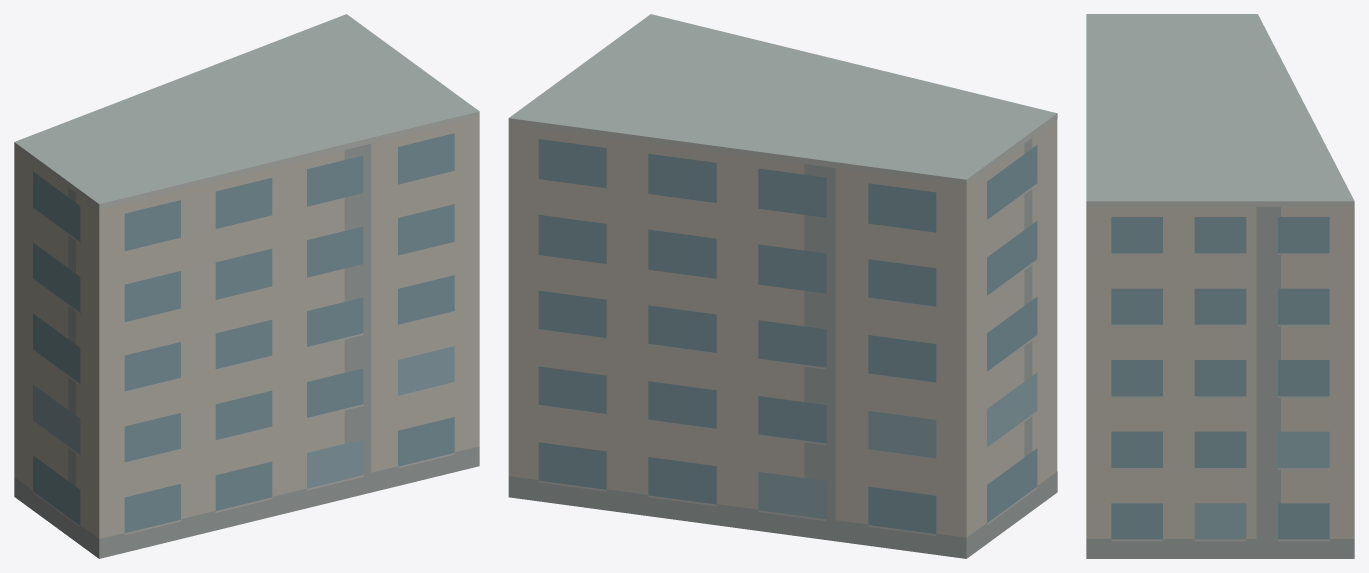
The model's file is residential-aaf2f2d3-6860-49ac-9d3b-27383a2be69e.glb.
The picture shows the model from 3 angles, left to right: view 1: azimuth 30°, elevation 25°; view 2: azimuth 150°, elevation 25°; view 3: azimuth 270°, elevation 25°; orthographic projection. The views are drawn at different scales.
Parts seen in each view (by area): view 1: residential-aaf2f2d3-6860-49ac-9d3b-27383a2be69e.tmp; view 2: residential-aaf2f2d3-6860-49ac-9d3b-27383a2be69e.tmp; view 3: residential-aaf2f2d3-6860-49ac-9d3b-27383a2be69e.tmp.
Part boxes in pixels (x1,y1,x2,y2): residential-aaf2f2d3-6860-49ac-9d3b-27383a2be69e.tmp: (14, 14, 479, 558); residential-aaf2f2d3-6860-49ac-9d3b-27383a2be69e.tmp: (508, 14, 1057, 558); residential-aaf2f2d3-6860-49ac-9d3b-27383a2be69e.tmp: (1086, 14, 1354, 558).
Size of the model in its own units: 17.14 by 15.25 by 10.38.
